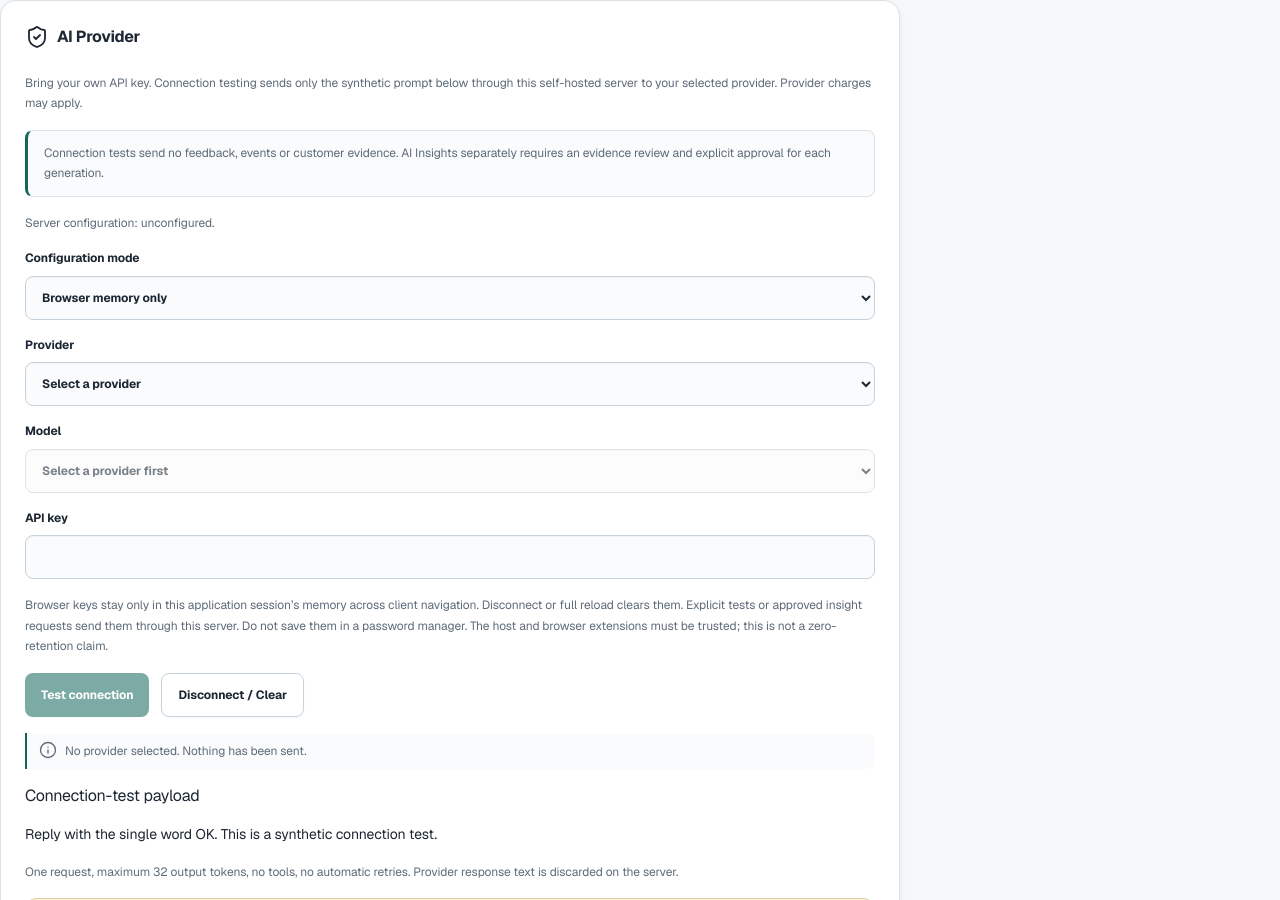
it: safe failure code is displayed; arbitrary response messages are never rendered
Expected: the text "Server configuration: unconfigured." is shown, [25,215,214,231]
Select "OpenAI" in the dropdown labelled "Provider": (450, 384) [25,362,875,406]
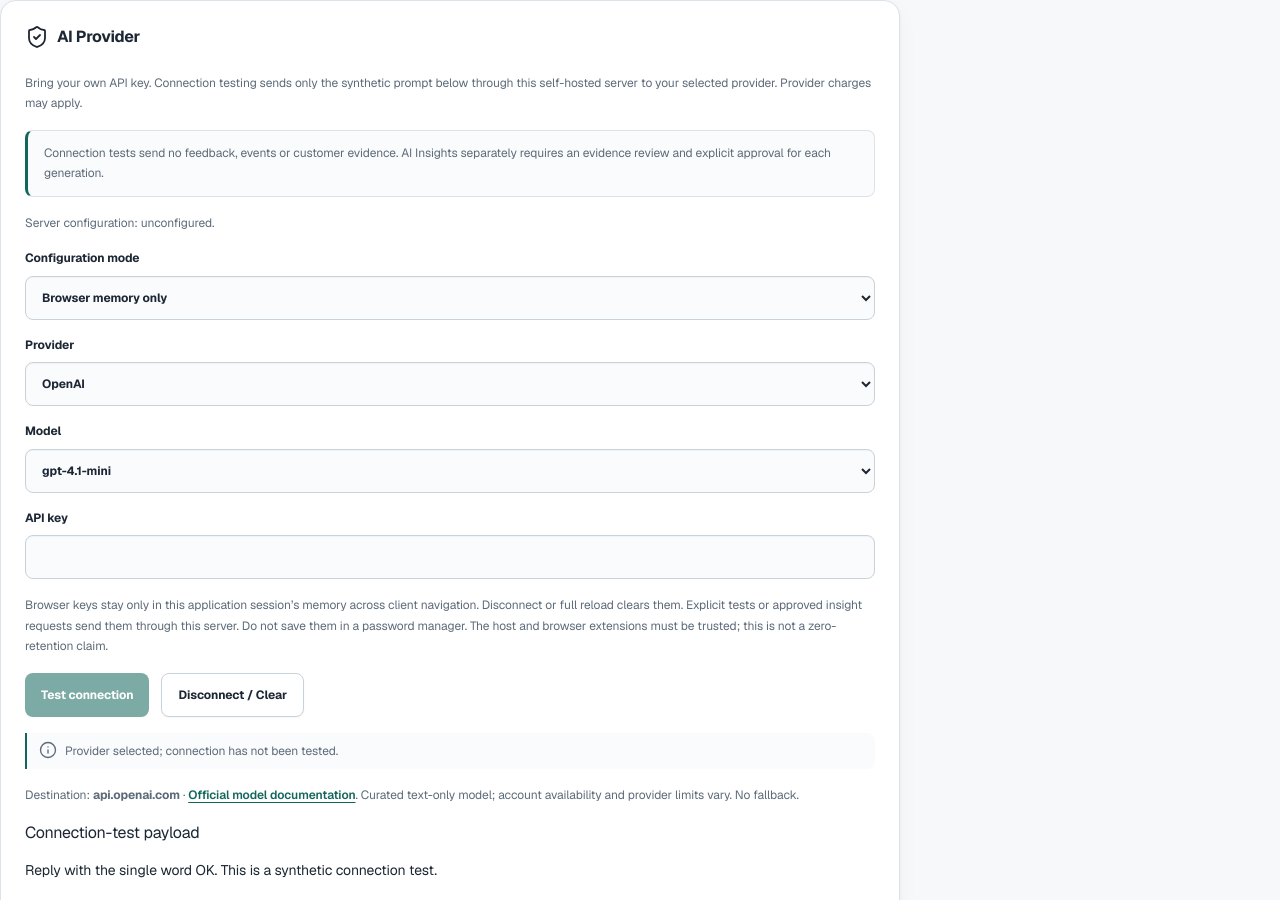
In the password field labelled "API key": (450, 557) [25,535,875,579], type "unit-test-value-not-a-credential"
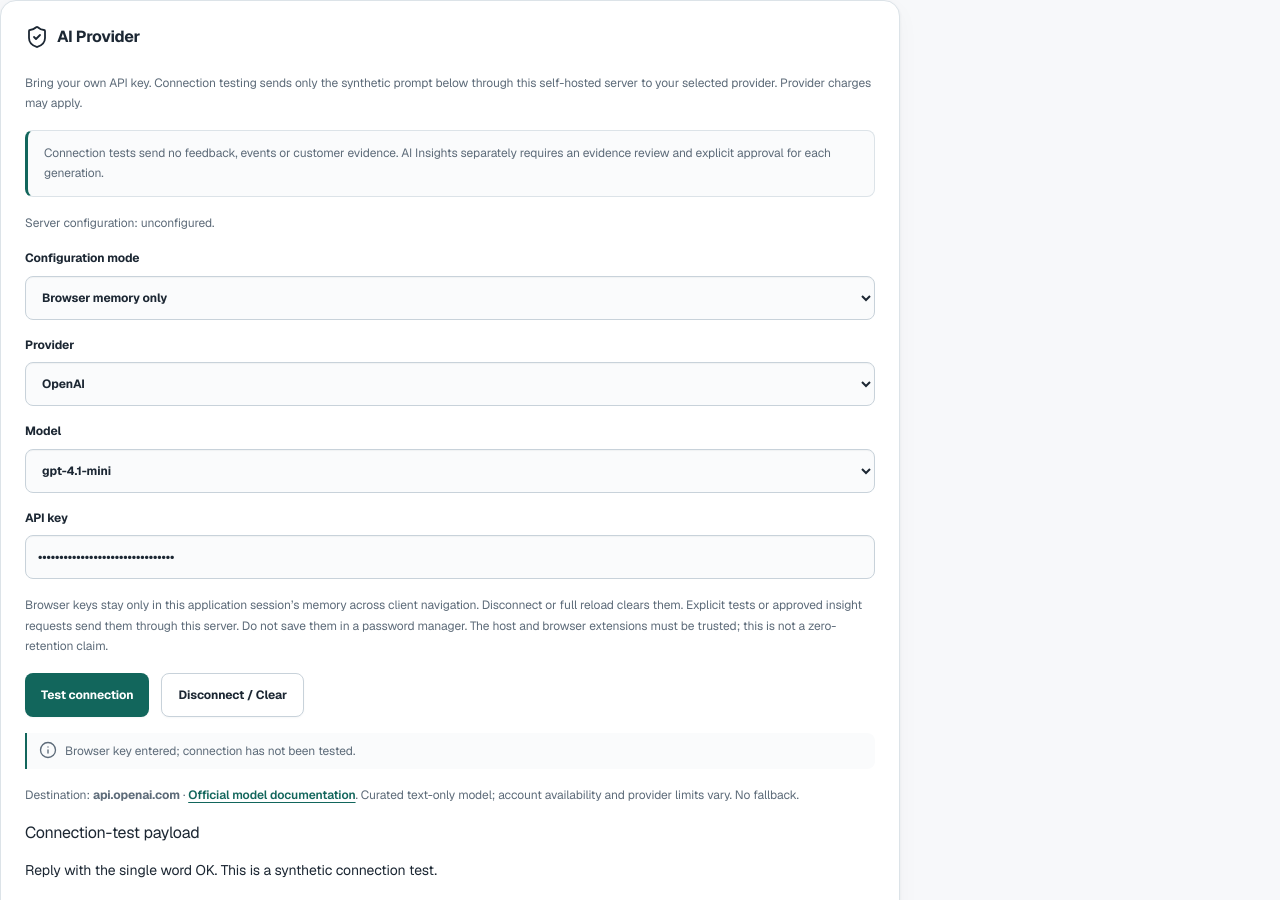
Click the button "Test connection": (87, 695) [25,673,150,717]
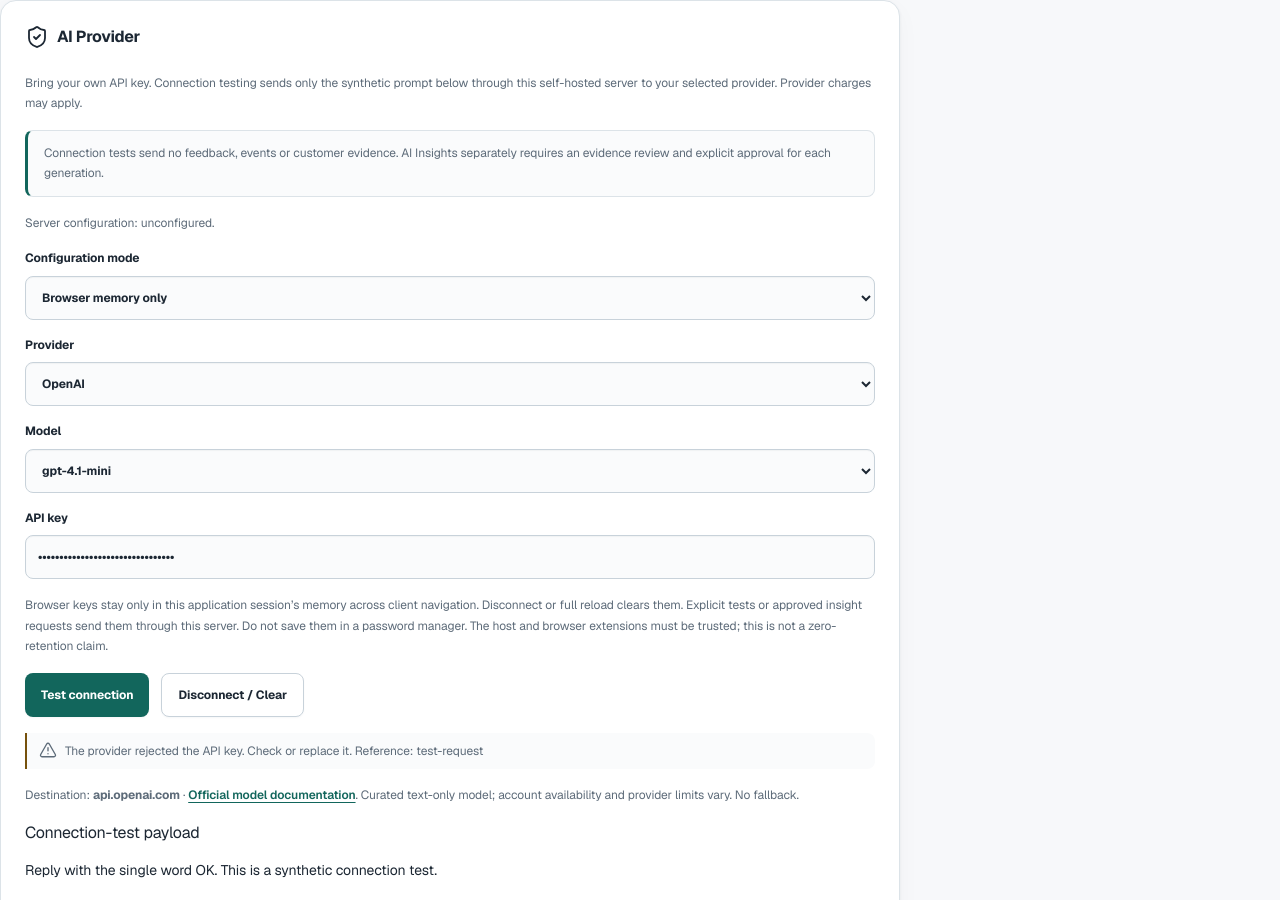
Now the message shows "provider rejected the API key", box [65,743,483,759]
Click the button "Test connection": (87, 695) [25,673,150,717]
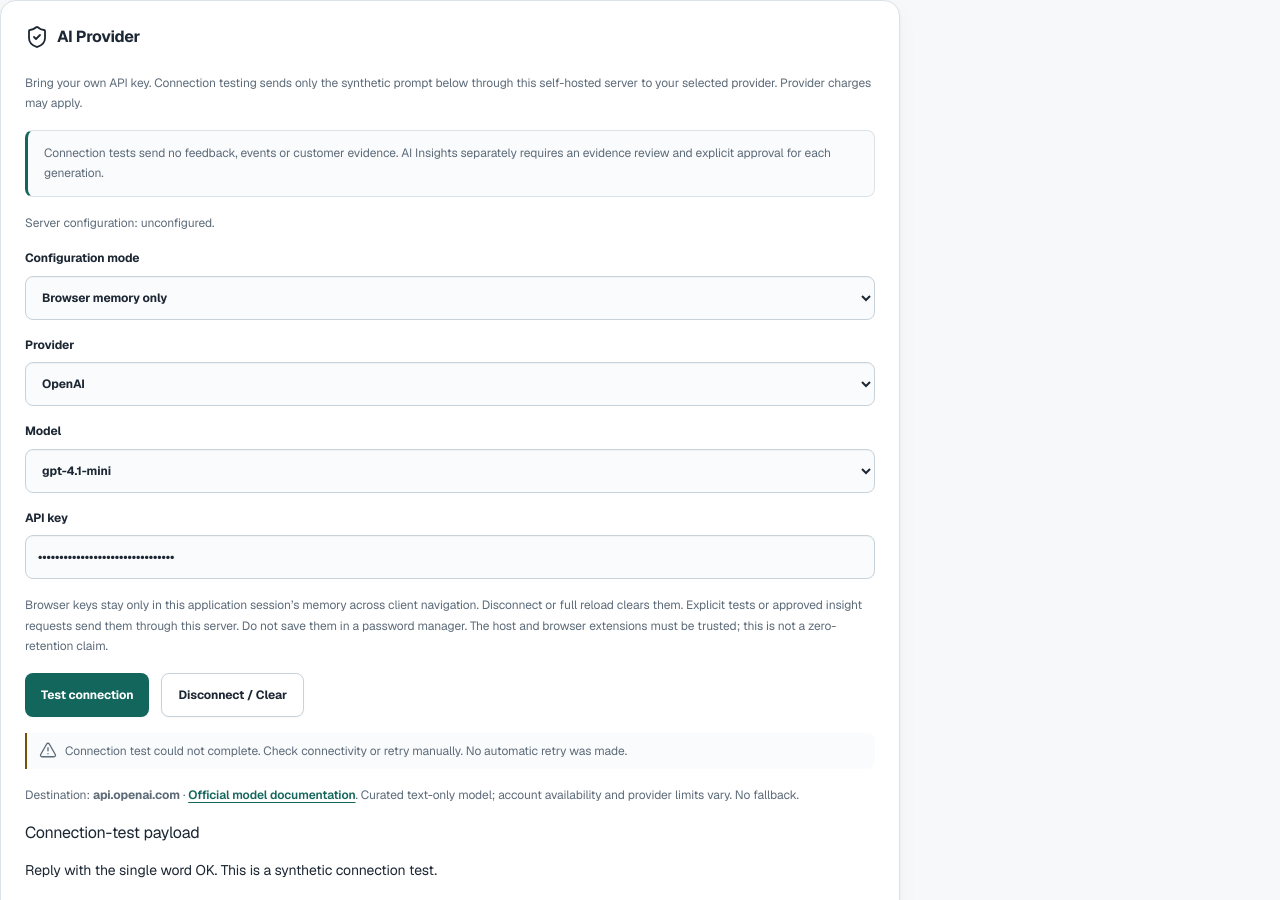
Now the text "could not complete" is shown, box [65,743,627,759]
